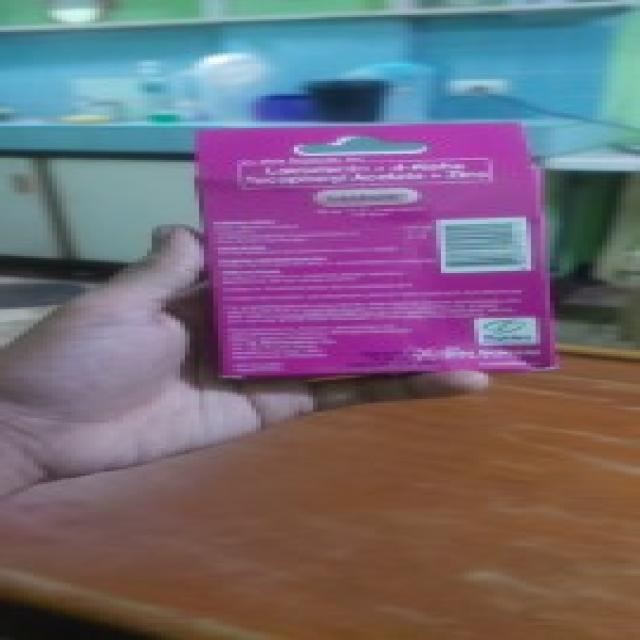Cacat: (201, 126, 533, 370)
